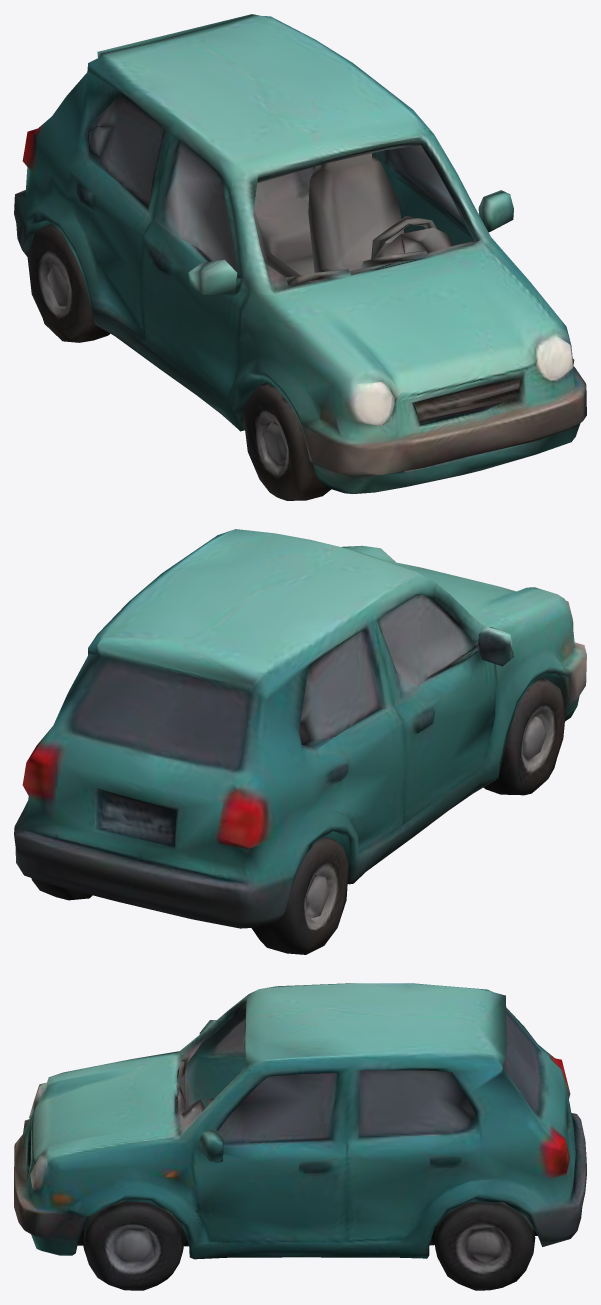
Rendered from compact.glb.
3 renders of one model, top to bottom at view 1: azimuth 30°, elevation 25°; view 2: azimuth 150°, elevation 25°; view 3: azimuth 270°, elevation 25°, orthographic. The views are drawn at different scales.
Parts seen in each view (by area): view 1: body; view 2: body; view 3: body.
Part boxes in pixels (<box>): body: <box>14,14,586,500</box>; body: <box>14,529,586,954</box>; body: <box>14,983,586,1290</box>.
Bounding box in the file's own units: 1.78 × 1.48 × 3.4.
1 material, 1 textured.
